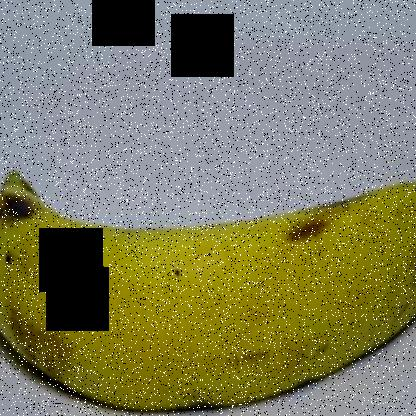freshripe: (1, 155, 415, 415)
